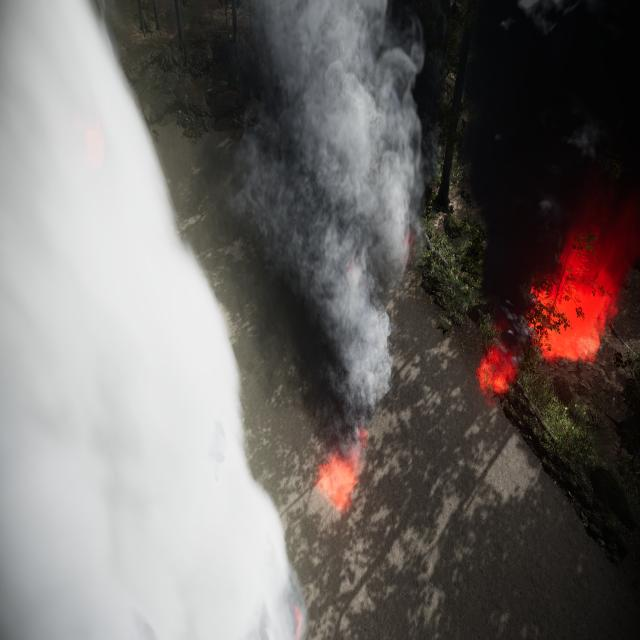Human: (328, 357, 379, 417)
